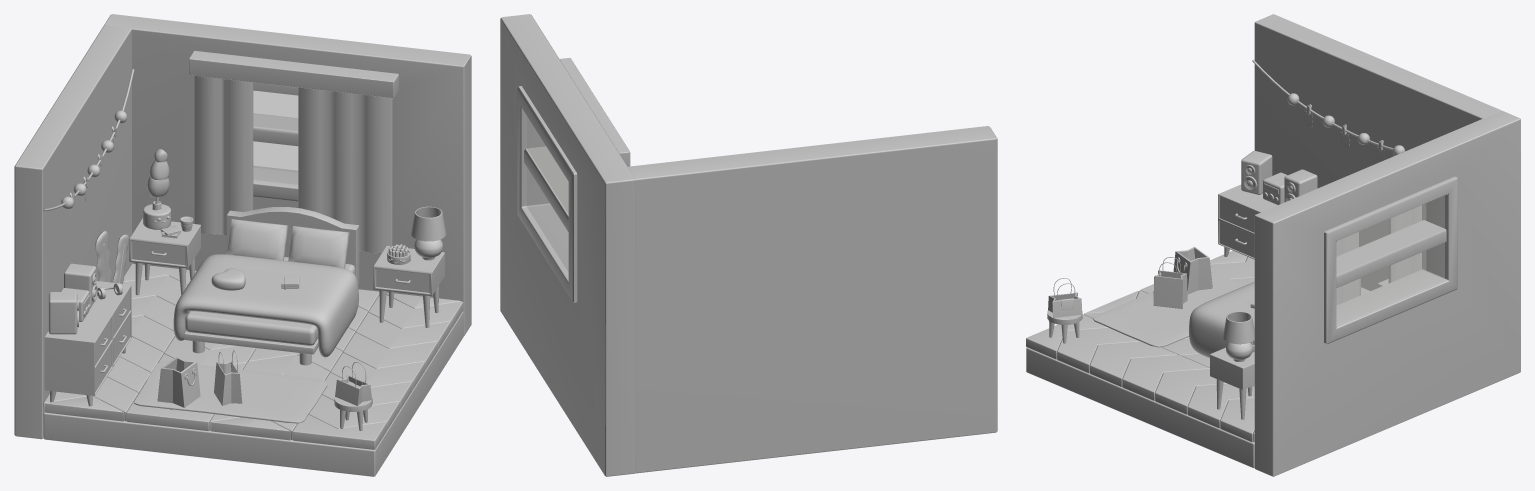
File: Bedroom_31.fbx
3 renders of one model, left to right at view 1: azimuth 30°, elevation 25°; view 2: azimuth 150°, elevation 25°; view 3: azimuth 270°, elevation 25°, orthographic. The views are drawn at different scales.
Visible parts, largest first — view 1: Room_31_Wall_2, Room_31_Floor_2, Room_31_Curtains_1, Room_31_Wall_1, Room_31_Bed_1, Room_31_Floor_1, Room_31_Cabinet_1, Room_31_Carpet_1, Room_31_Window_1, Room_31_Cabinet_2, Room_31_Cabinet_3, Room_31_Pillow_2 (+12 smaller); view 2: Room_31_Wall_1, Room_31_Wall_2, Room_31_Window_1, Room_31_Curtains_1; view 3: Room_31_Wall_2, Room_31_Wall_1, Room_31_Window_1, Room_31_Floor_2, Room_31_Floor_1, Room_31_Carpet_1, Room_31_Cabinet_1, Room_31_Bed_1, Room_31_Curtains_1, Room_31_Cabinet_2, Room_31_Lamp_1, Room_31_Package_2 (+7 smaller).
Part boxes in pixels (x1,y1,x2,y2): Room_31_Wall_2: [104, 14, 471, 335]; Room_31_Floor_2: [43, 263, 463, 449]; Room_31_Curtains_1: [188, 50, 398, 253]; Room_31_Wall_1: [14, 25, 131, 439]; Room_31_Bed_1: [173, 207, 359, 365]; Room_31_Floor_1: [43, 311, 463, 476]; Room_31_Cabinet_1: [44, 281, 131, 406]; Room_31_Carpet_1: [134, 361, 327, 423]; Room_31_Window_1: [253, 82, 298, 201]; Room_31_Cabinet_2: [373, 246, 444, 327]; Room_31_Cabinet_3: [129, 218, 200, 295]; Room_31_Pillow_2: [288, 226, 349, 268]; Room_31_Wall_1: [627, 126, 997, 473]; Room_31_Wall_2: [500, 14, 635, 476]; Room_31_Window_1: [517, 86, 577, 302]; Room_31_Curtains_1: [559, 58, 630, 166]; Room_31_Wall_2: [1254, 110, 1520, 476]; Room_31_Wall_1: [1254, 14, 1501, 290]; Room_31_Window_1: [1324, 176, 1457, 344]; Room_31_Floor_2: [1026, 250, 1369, 442]; Room_31_Floor_1: [1026, 347, 1254, 468]; Room_31_Carpet_1: [1092, 271, 1245, 347]; Room_31_Cabinet_1: [1218, 184, 1277, 259]; Room_31_Bed_1: [1189, 281, 1254, 358]; Room_31_Curtains_1: [1336, 205, 1421, 305]; Room_31_Cabinet_2: [1210, 347, 1254, 419]; Room_31_Lamp_1: [1223, 311, 1254, 361]; Room_31_Package_2: [1153, 257, 1187, 308].
Bounding box in the file's own units: 705 × 400 × 705.
